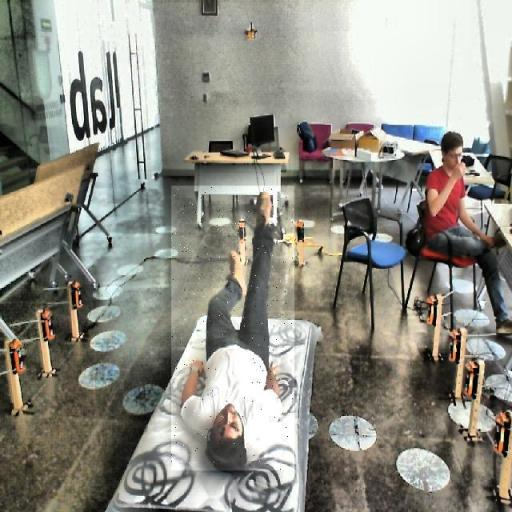Fall: (172, 186, 295, 471)
